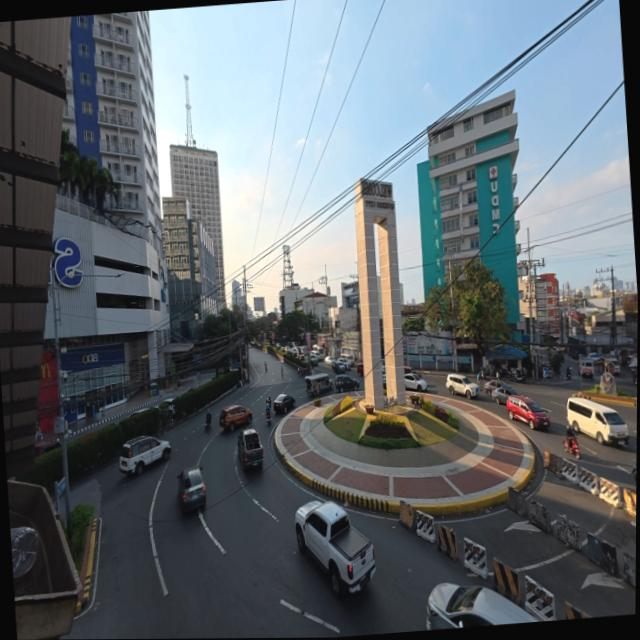Jeepneys: (305, 373, 331, 396)
car: (426, 583, 537, 629), (118, 436, 170, 475), (506, 395, 550, 429), (176, 466, 205, 512), (218, 404, 251, 431), (445, 374, 478, 399), (490, 386, 519, 404), (33, 438, 61, 456), (483, 379, 510, 396), (272, 394, 295, 413), (404, 373, 427, 392), (334, 374, 358, 392), (155, 398, 174, 416), (331, 359, 348, 374), (127, 407, 149, 418), (603, 359, 619, 374), (337, 356, 350, 370), (355, 361, 364, 377), (587, 353, 599, 363), (308, 355, 317, 366), (403, 365, 414, 374), (324, 357, 333, 367), (290, 346, 298, 357), (568, 352, 578, 360), (381, 368, 385, 386), (297, 355, 304, 362), (637, 377, 640, 391), (275, 343, 279, 349)
motorcycle: (564, 437, 580, 459), (512, 369, 524, 383), (565, 366, 572, 380), (204, 415, 210, 431), (631, 466, 636, 482), (266, 410, 270, 425)
trucks: (294, 501, 374, 596), (236, 427, 264, 469)
vans: (566, 398, 628, 444), (578, 358, 592, 379), (339, 354, 353, 365), (311, 346, 323, 358)
